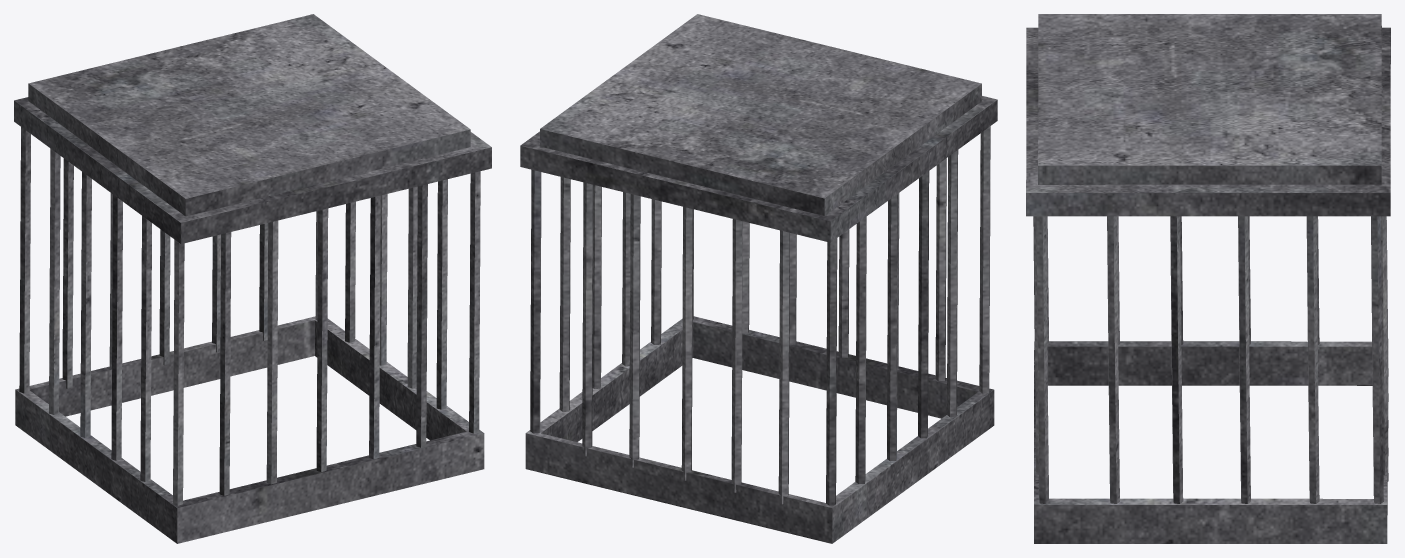
File: cage.obj
3 views of the same model, side by side, from view 1: azimuth 30°, elevation 25°; view 2: azimuth 150°, elevation 25°; view 3: azimuth 270°, elevation 25° (orthographic). The views are drawn at different scales.
Visible parts, largest first — view 1: uploads_files_968817_BadCages_V01; view 2: uploads_files_968817_BadCages_V01; view 3: uploads_files_968817_BadCages_V01.
Boxes of the visible parts, x1=… form: uploads_files_968817_BadCages_V01: x1=14, y1=14, x2=491, y2=543; uploads_files_968817_BadCages_V01: x1=520, y1=14, x2=997, y2=543; uploads_files_968817_BadCages_V01: x1=1026, y1=14, x2=1390, y2=543.
Size of the model in its own units: 25.93 by 27.17 by 24.14.
Materials: 1 (1 with a texture image).
